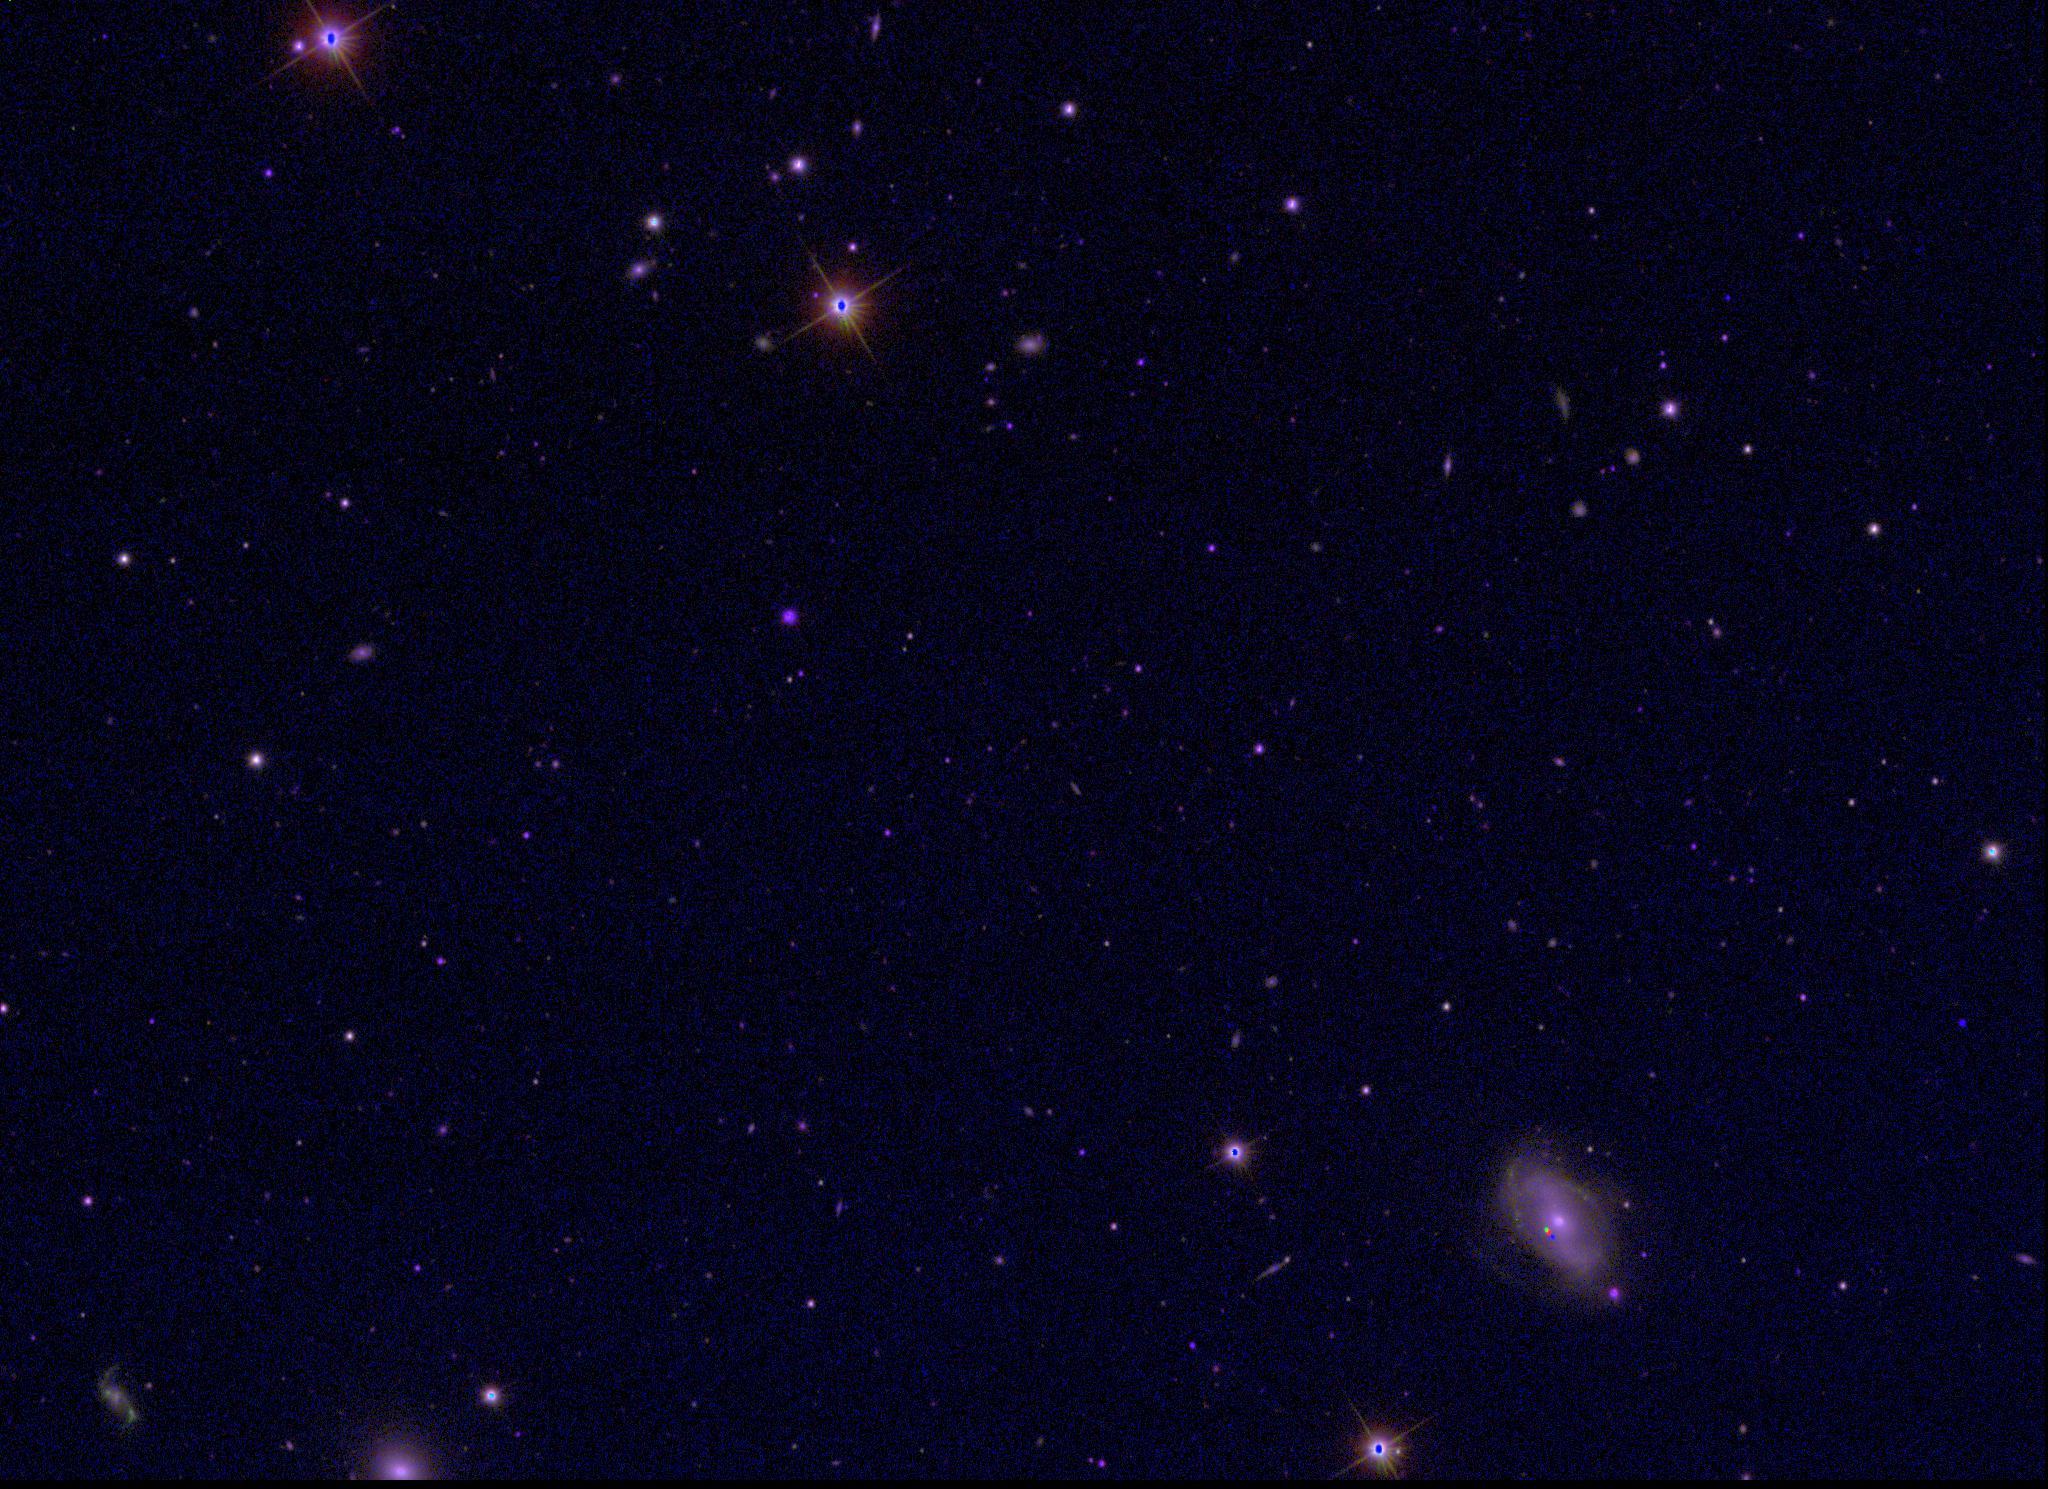L: (1956, 1013, 1970, 1028)
